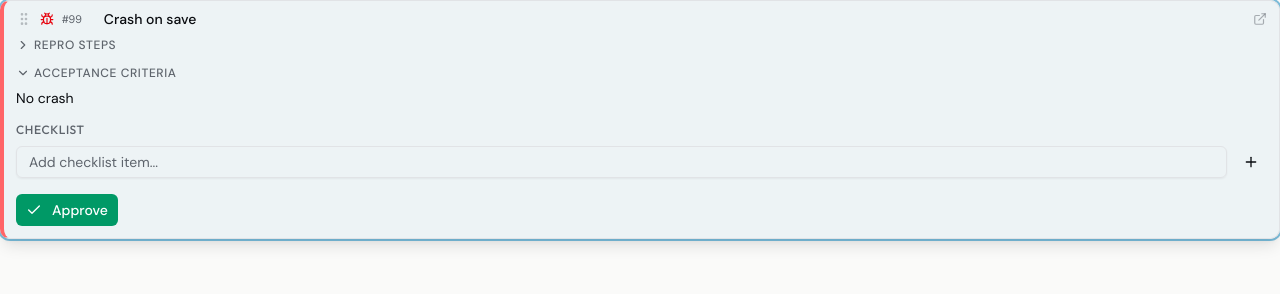
Test: DemoItem › expands Repro Steps on click for bugs
Click the button "Repro Steps".
click(66, 45)  # box [16,37,116,53]
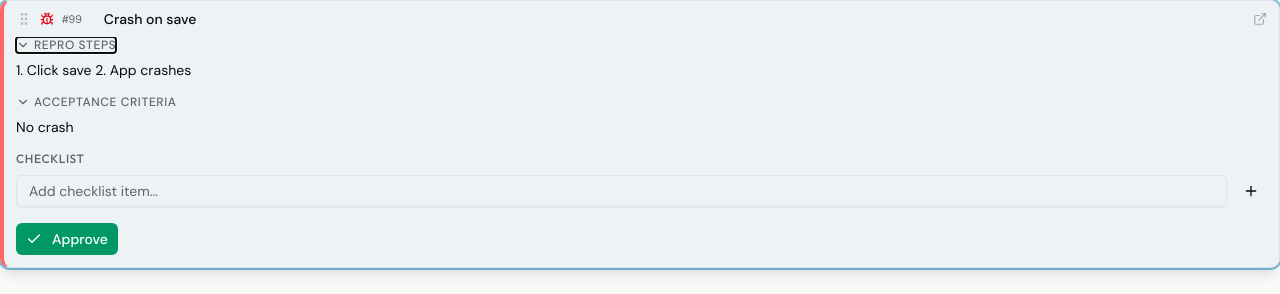
Expected: the text "1. Click save 2. App crashes" is shown, [16,61,191,79]
Expected: the button "Repro Steps" is expanded, [16,37,116,53]
